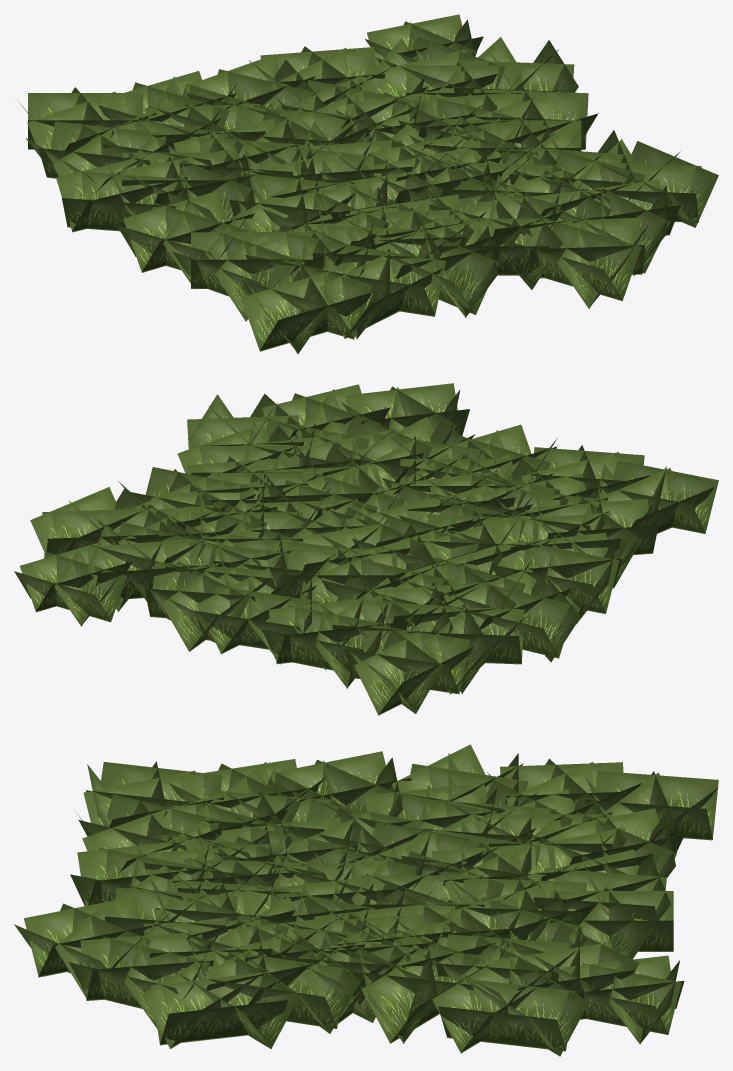
File: grass_large_2.dae
3 renders of one model, top to bottom at view 1: azimuth 30°, elevation 25°; view 2: azimuth 150°, elevation 25°; view 3: azimuth 270°, elevation 25°, orthographic. The views are drawn at different scales.
Parts seen in each view (by area): view 1: Plane021; view 2: Plane021; view 3: Plane021.
Part boxes in pixels (x1,y1,x2,y2): Plane021: (15, 14, 718, 353); Plane021: (14, 383, 718, 715); Plane021: (14, 744, 718, 1056).
Size of the model in its own units: 47.7 by 51.61 by 3.7.
